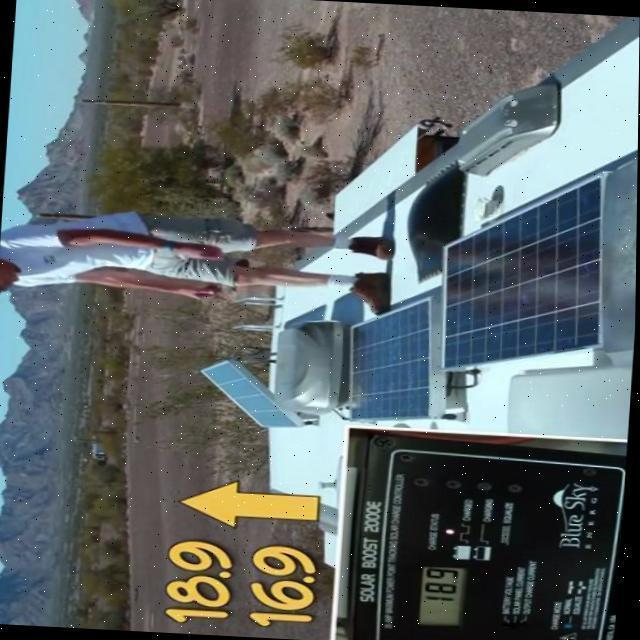Normal Solar Panel: (439, 164, 612, 376), (345, 292, 442, 424), (200, 360, 305, 429)
